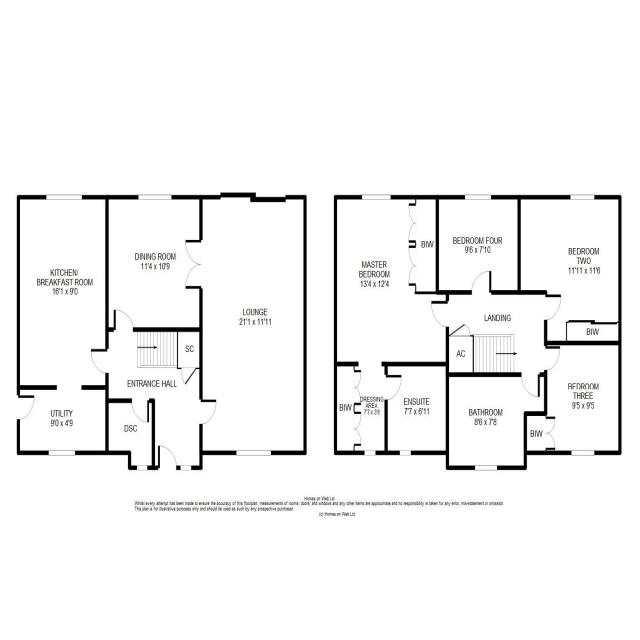DOOR: (112, 307, 134, 332), (430, 300, 449, 328), (471, 270, 492, 295), (157, 444, 177, 470), (90, 347, 109, 374), (521, 372, 540, 398), (544, 294, 562, 321), (384, 374, 402, 401), (131, 398, 150, 423), (199, 399, 217, 425), (17, 394, 35, 420), (544, 345, 561, 371)
DOUBLE DOOR: (184, 238, 203, 290), (545, 416, 556, 450)
ROOM: (184, 192, 307, 456), (334, 194, 449, 367), (16, 194, 109, 391), (517, 194, 622, 346), (105, 194, 203, 332), (523, 340, 622, 456), (435, 194, 521, 295)
SLIDING DOOR: (220, 191, 286, 203)
WINDOW: (45, 193, 83, 200), (235, 450, 272, 456), (138, 194, 172, 200), (361, 194, 391, 200), (464, 194, 492, 200), (48, 450, 75, 456), (570, 194, 595, 200), (571, 450, 595, 456), (475, 465, 498, 471), (136, 464, 148, 471), (399, 450, 411, 456), (364, 450, 376, 456), (180, 465, 192, 471)
